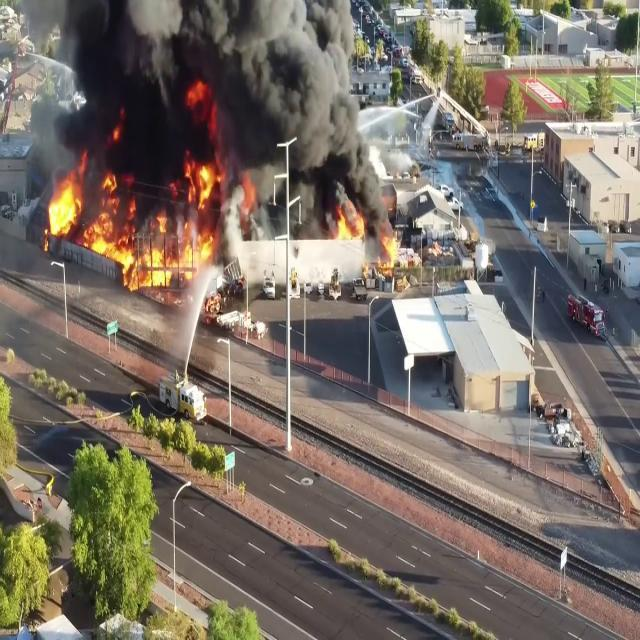Fire: (42, 162, 242, 318), (380, 230, 410, 290), (334, 210, 371, 256)
Smoke: (30, 0, 397, 256)
